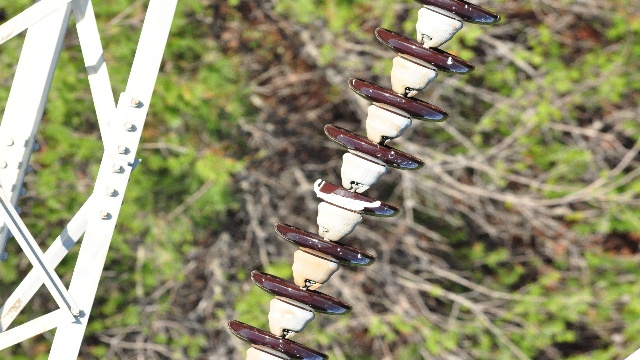broken_local: (311, 177, 381, 212)
insulator_unspecified: (227, 0, 500, 359)
